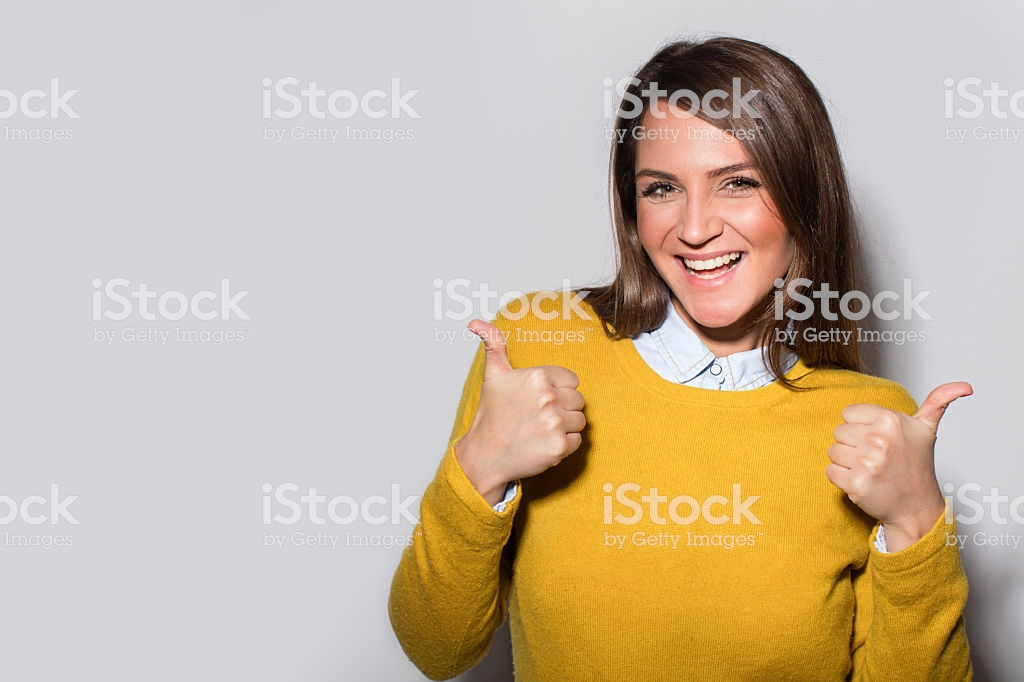thumbsup: (824, 379, 976, 518), (464, 316, 592, 473)
